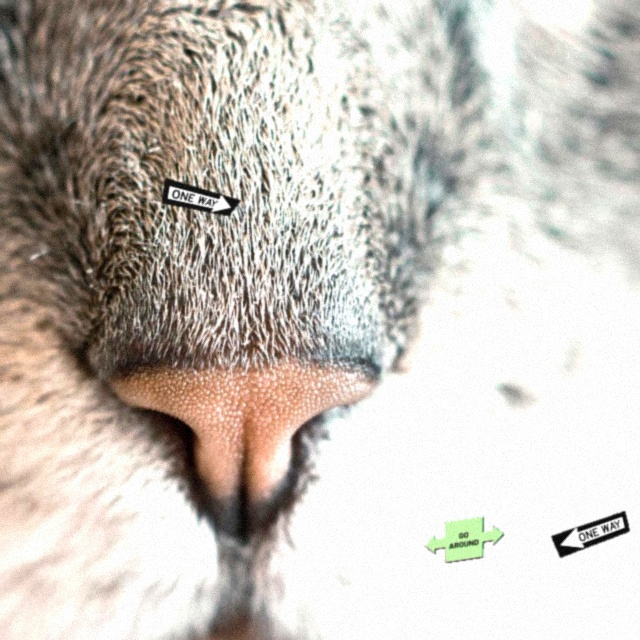GO_AROUND: (424, 516, 504, 563)
ONE_WAY_ left: (550, 510, 630, 558)
ONE_WAY_ right: (161, 177, 241, 216)
